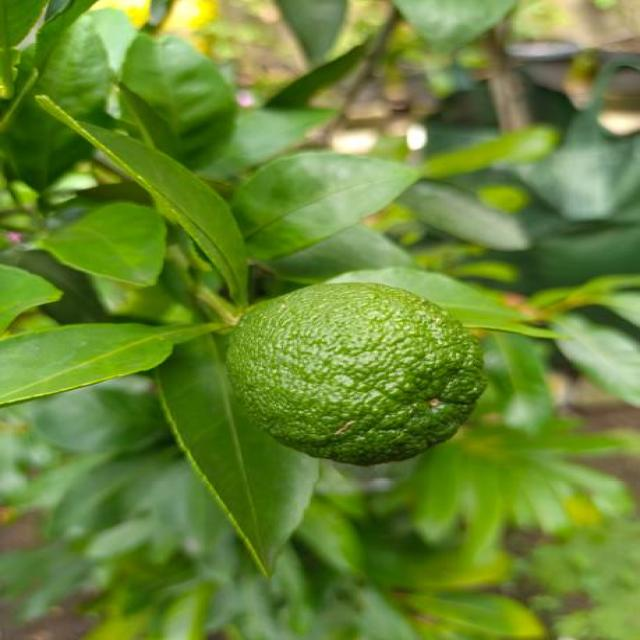Unripe: (220, 283, 487, 467)
